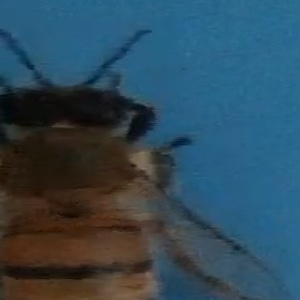bee: (2, 27, 277, 300)
